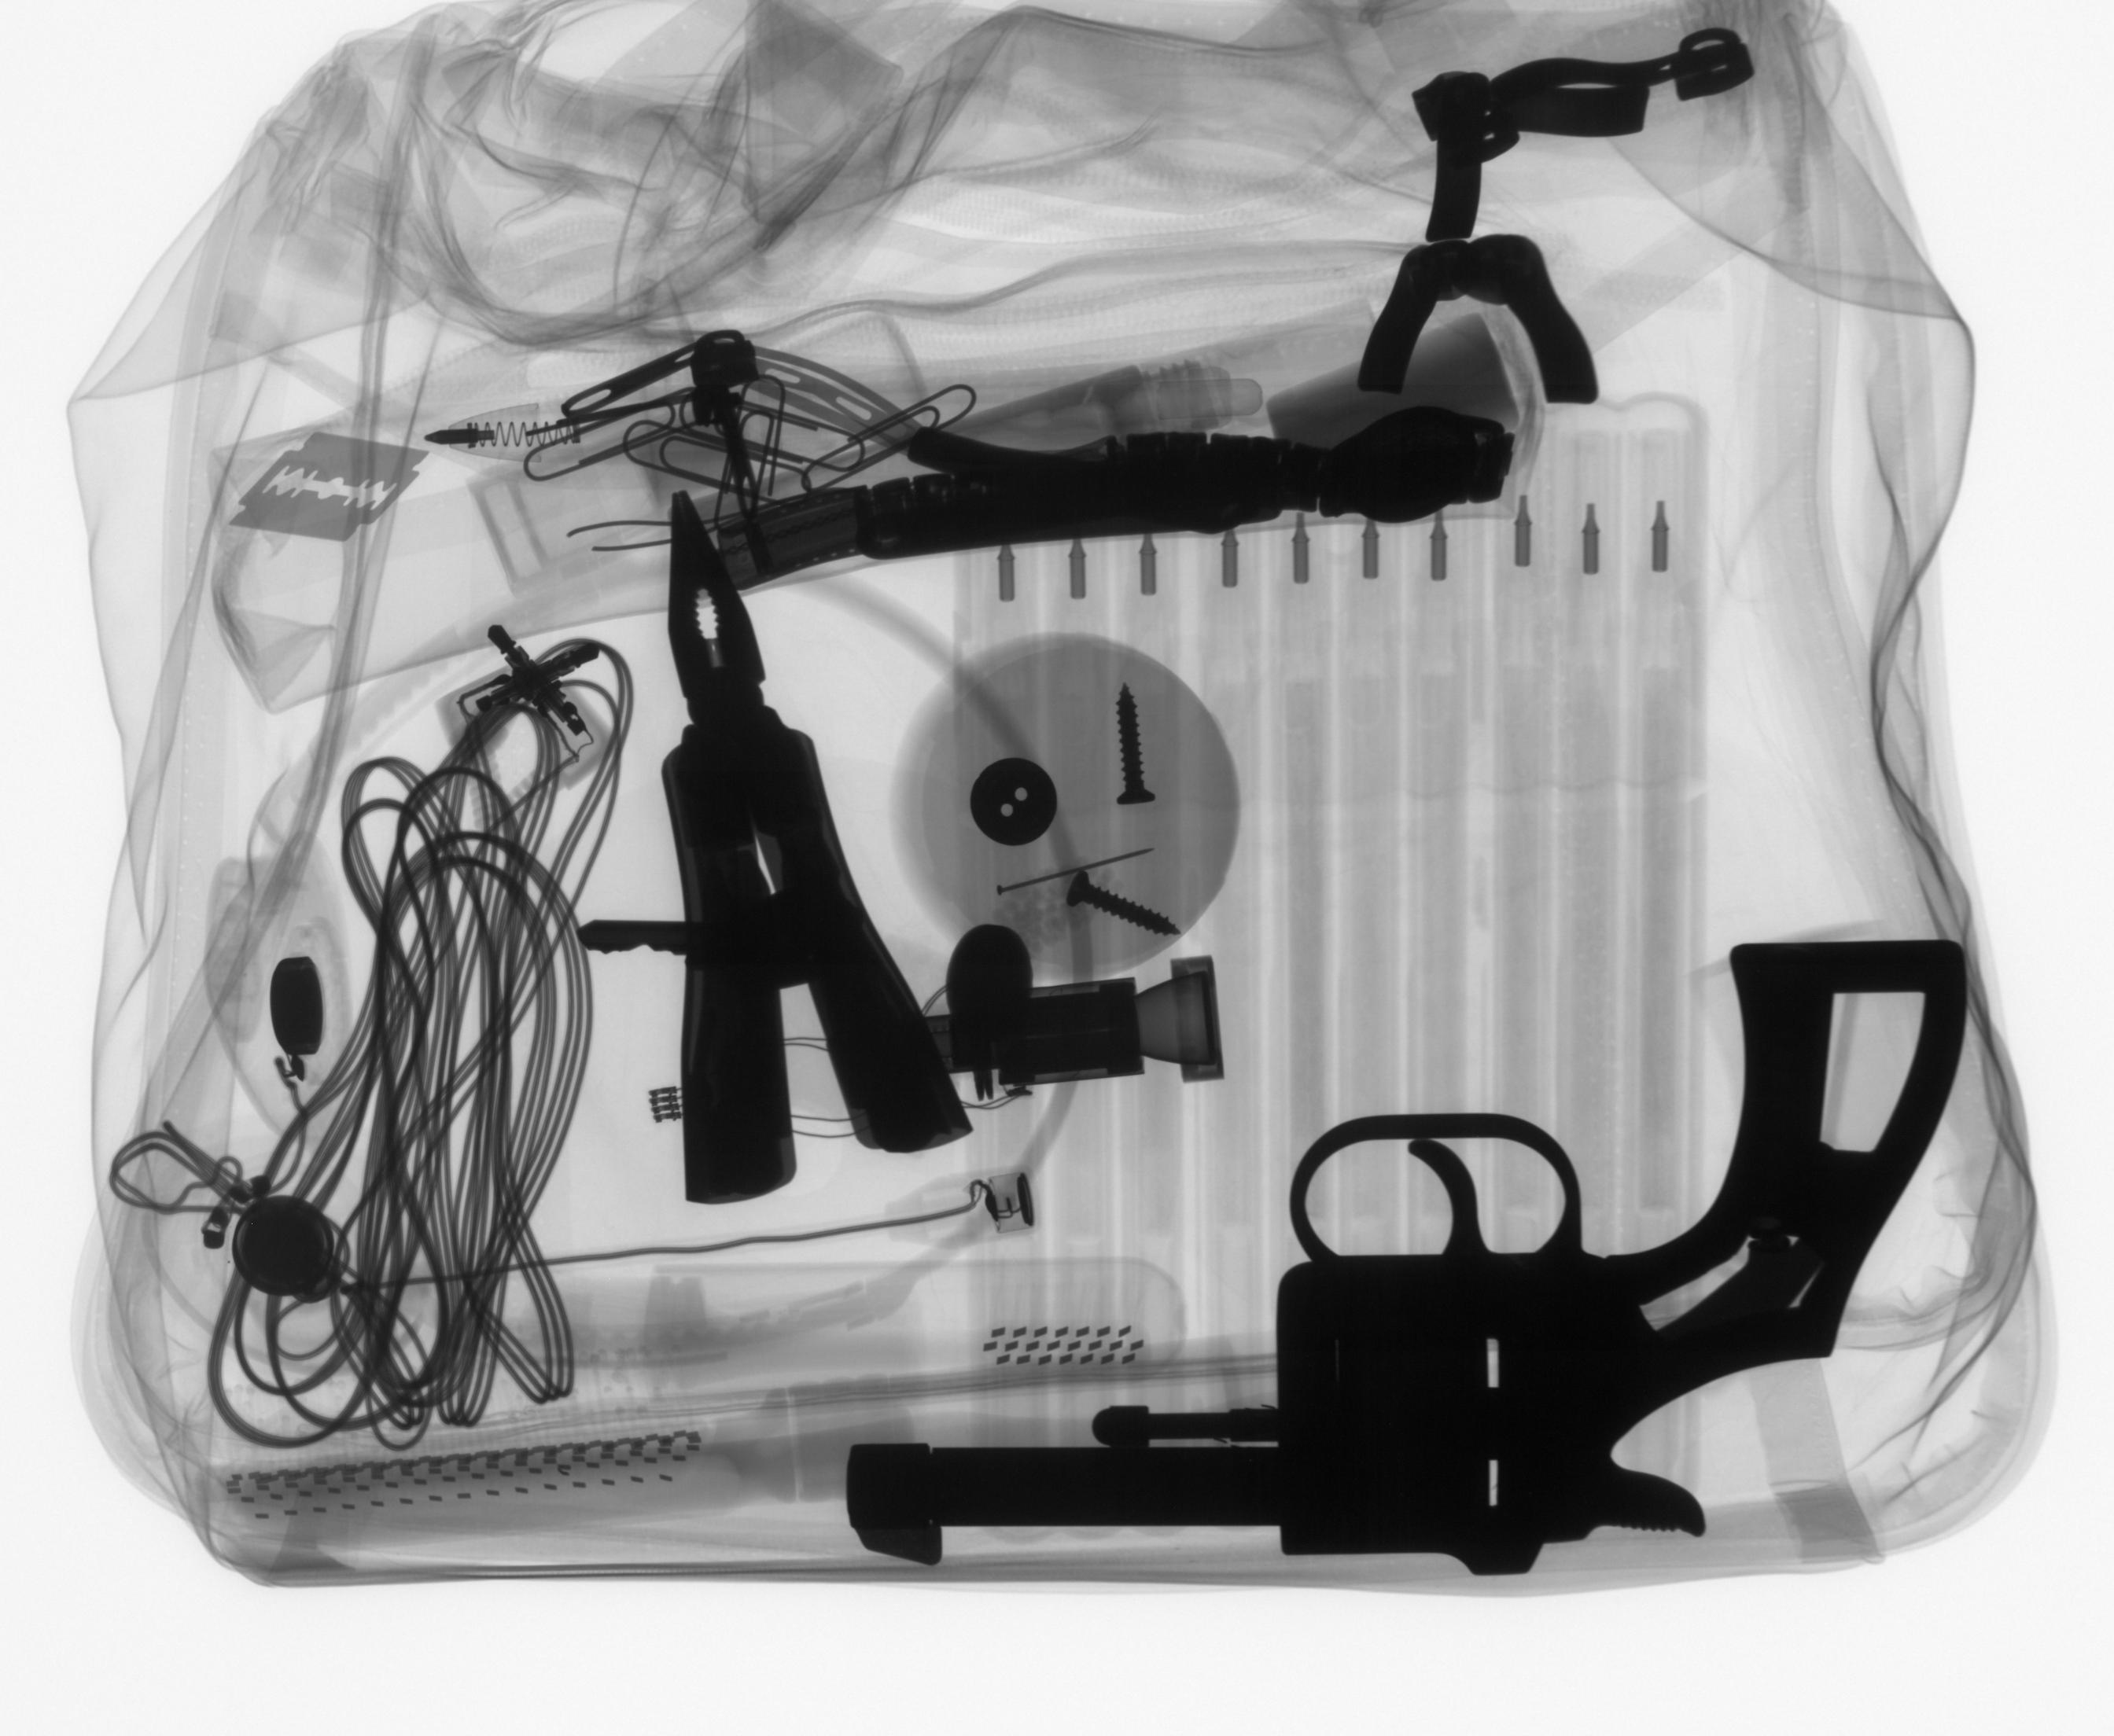Handgun: (801, 929, 1986, 1592)
RazorBlade: (218, 416, 430, 574)
